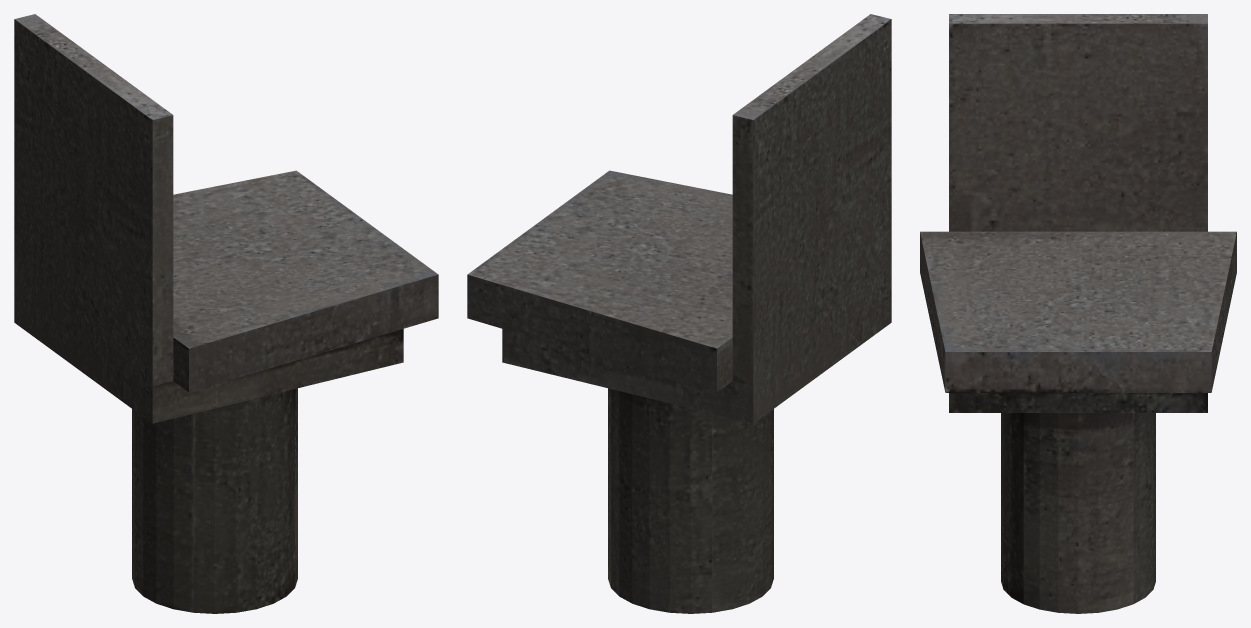
3 renders of one model, left to right at view 1: azimuth 30°, elevation 25°; view 2: azimuth 150°, elevation 25°; view 3: azimuth 270°, elevation 25°, orthographic. The views are drawn at different scales.
Parts seen in each view (by area): view 1: Node; view 2: Node; view 3: Node.
Part boxes in pixels (x1,y1,x2,y2): Node: (14,14,438,613); Node: (467,14,891,613); Node: (920,14,1236,613).
Bounding box in the file's own units: 0.3844 × 0.7 × 0.3965.
Materials: 1 (1 with a texture image).
